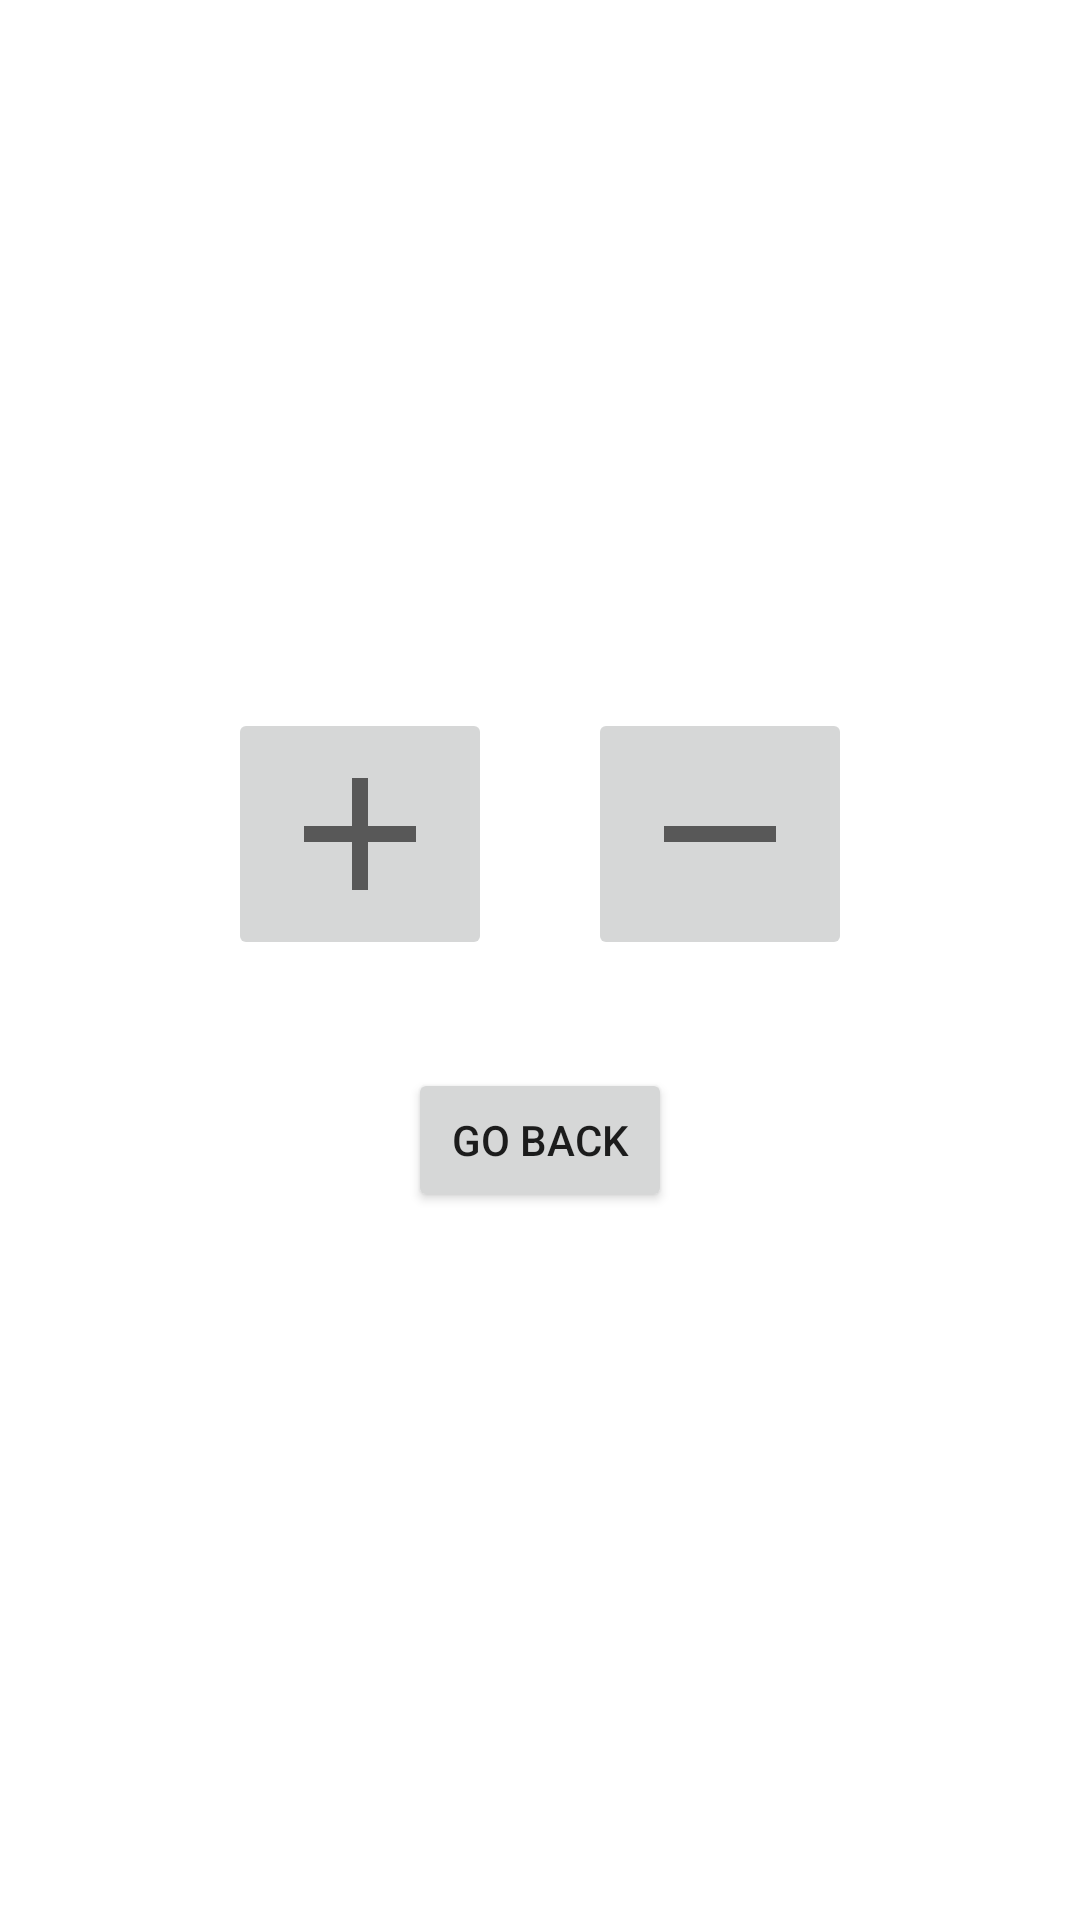

Point at icon controls on the screen. Image size 1080x1920, points as (x,y).
add: (360,834)
remove: (720,834)
